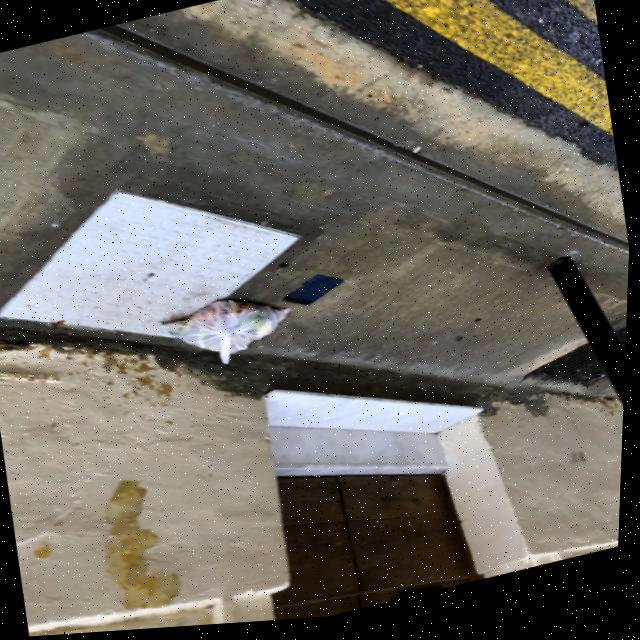Organic Waste -White Bag-: (156, 288, 298, 378)
